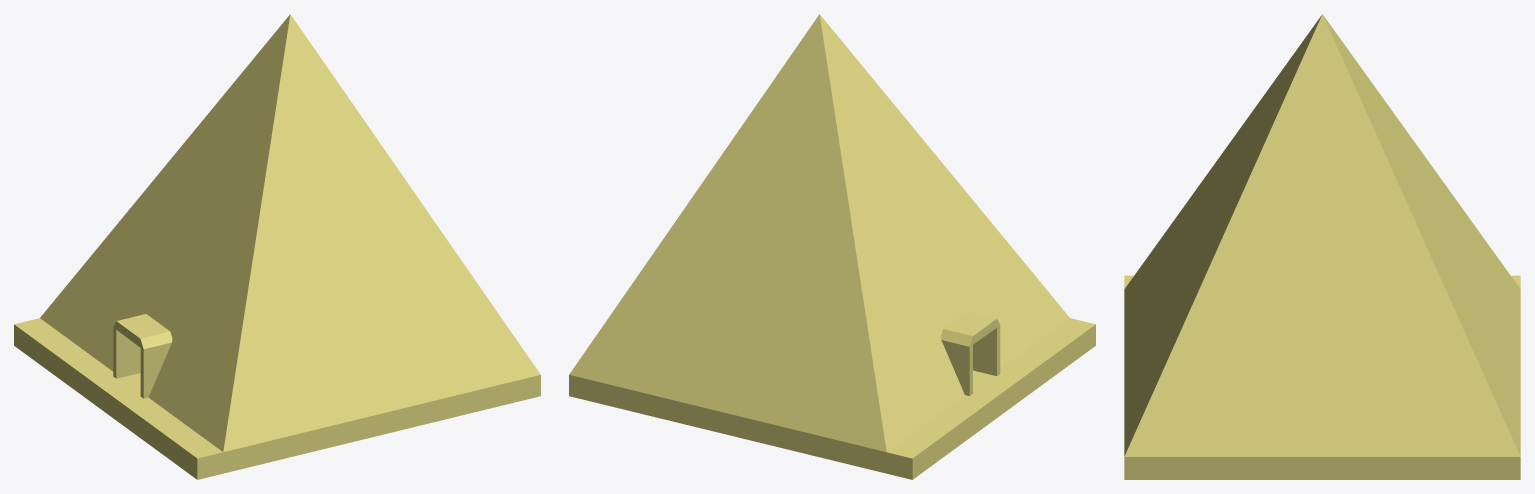
The picture shows the model from 3 angles, left to right: view 1: azimuth 30°, elevation 25°; view 2: azimuth 150°, elevation 25°; view 3: azimuth 270°, elevation 25°; orthographic projection. The views are drawn at different scales.
Visible parts, largest first — view 1: Cube.001; view 2: Cube.001; view 3: Cube.001.
Part boxes in pixels (x1,y1,x2,y2): Cube.001: (14, 14, 540, 479); Cube.001: (569, 14, 1095, 479); Cube.001: (1124, 14, 1520, 479).
Size of the model in its own units: 12468 by 12275 by 11532.
